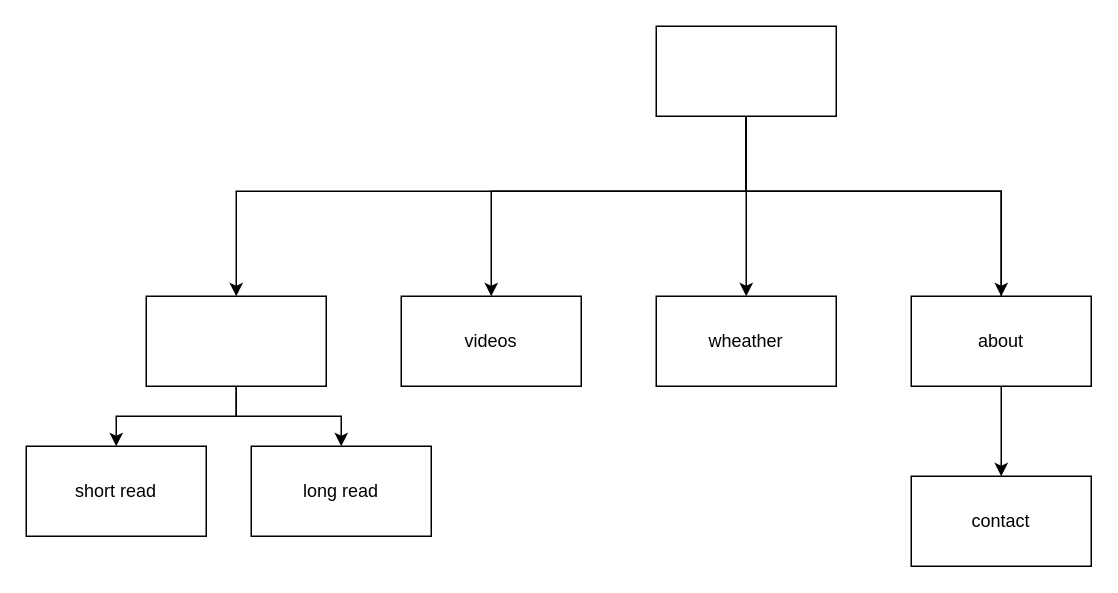
This 1118x593 diagram has some shape labels left out. Each missing label, with the box of its shape:
homepage: (655, 25, 836, 116)
individual articles: (145, 295, 326, 386)
